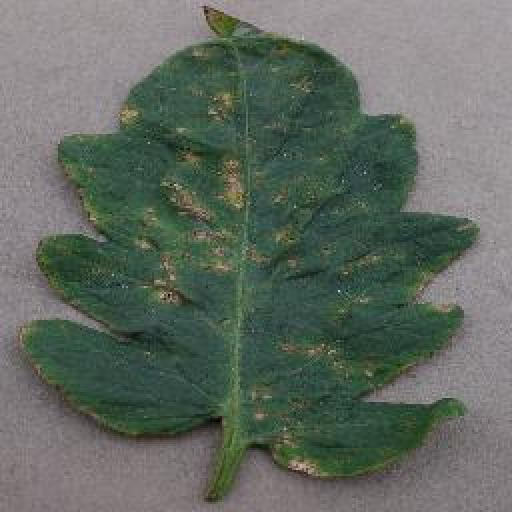Bacterial Spot: (22, 0, 478, 483)
